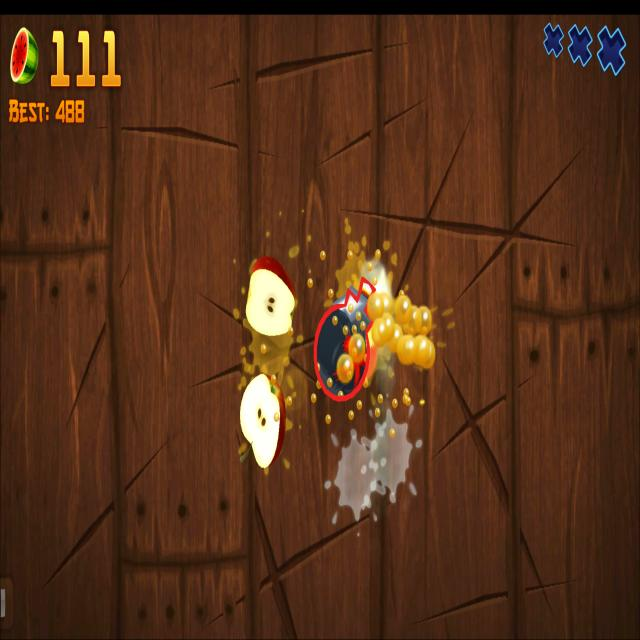bomb: (313, 277, 376, 401)
